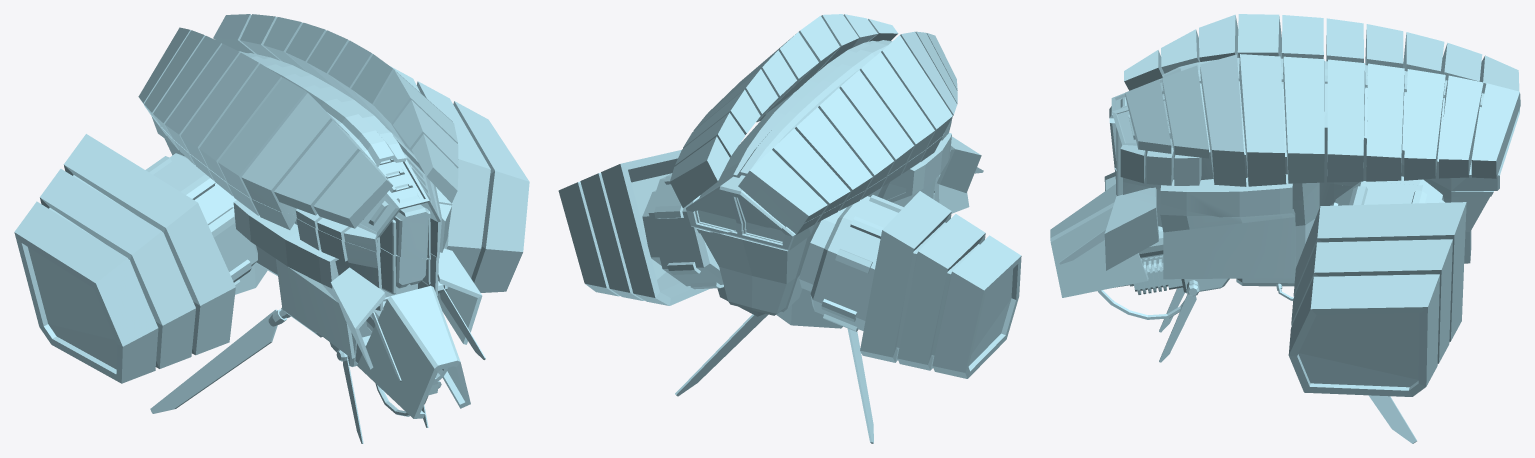
Rendered from Drone broken set.fbx.
3 views of the same model, side by side, from view 1: azimuth 30°, elevation 25°; view 2: azimuth 150°, elevation 25°; view 3: azimuth 270°, elevation 25° (orthographic). The views are drawn at different scales.
Parts seen in each view (by area): view 1: Drone_part_5, Drone_part_1, Drone_part_2, Drone_part_3, Drone_part_8, Drone_part_6; view 2: Drone_part_5, Drone_part_1, Drone_part_3, Drone_part_2, Drone_part_4, Drone_part_8; view 3: Drone_part_2, Drone_part_3, Drone_part_1, Drone_part_5, Drone_part_4, Drone_part_7.
Boxes of the visible parts, left/top/right/bottom form: Drone_part_5: left=14, top=105, right=485, bottom=418; Drone_part_1: left=138, top=27, right=452, bottom=259; Drone_part_2: left=213, top=14, right=458, bottom=203; Drone_part_3: left=390, top=66, right=529, bottom=292; Drone_part_8: left=150, top=308, right=290, bottom=413; Drone_part_6: left=336, top=349, right=363, bottom=443; Drone_part_5: left=700, top=118, right=1021, bottom=378; Drone_part_1: left=686, top=31, right=957, bottom=233; Drone_part_3: left=558, top=150, right=723, bottom=305; Drone_part_2: left=670, top=14, right=898, bottom=207; Drone_part_4: left=675, top=313, right=768, bottom=396; Drone_part_8: left=847, top=328, right=873, bottom=443; Drone_part_2: left=1125, top=54, right=1520, bottom=186; Drone_part_3: left=1288, top=176, right=1466, bottom=396; Drone_part_1: left=1109, top=14, right=1519, bottom=217; Drone_part_5: left=1050, top=168, right=1489, bottom=319; Drone_part_4: left=1368, top=395, right=1416, bottom=443; Drone_part_7: left=1159, top=280, right=1199, bottom=362.
Size of the model in its own units: 197 by 149 by 178.
